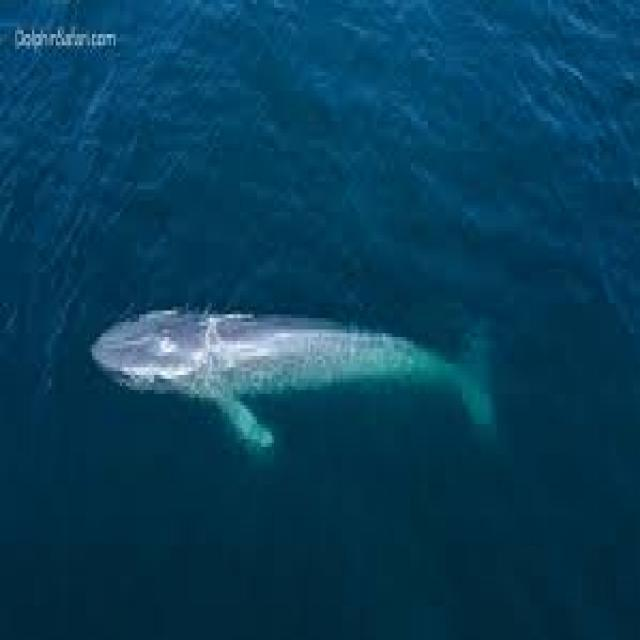blue_whale: (70, 258, 530, 564)
